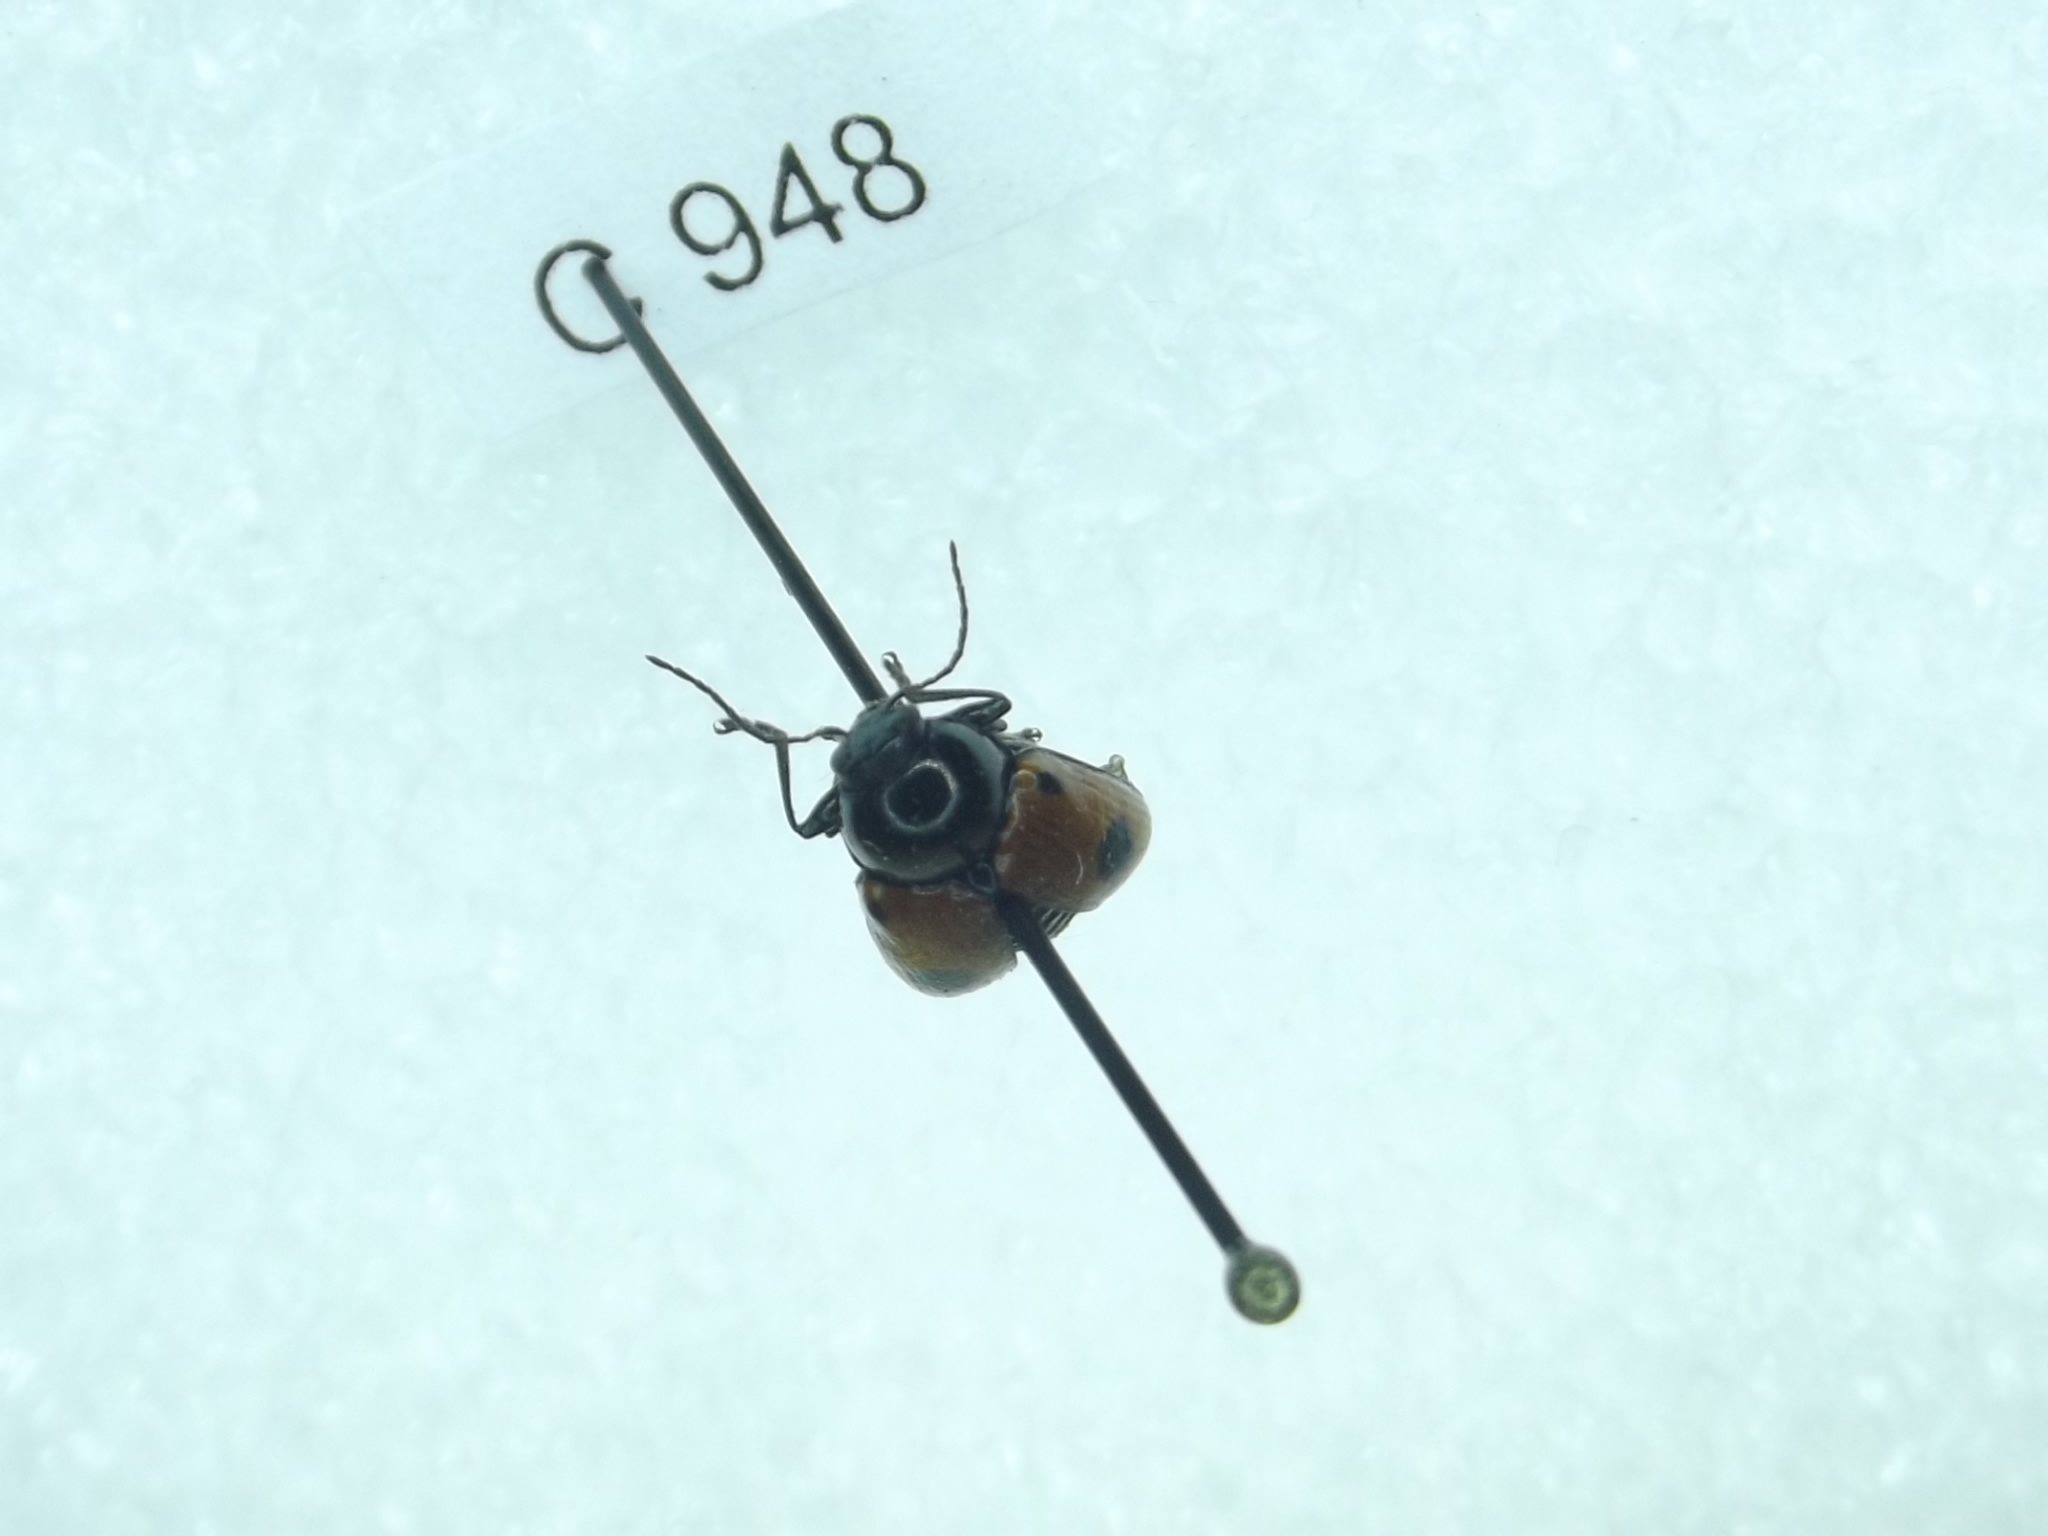Cryptocephalus_bipunctatus: (618, 534, 1166, 994)
